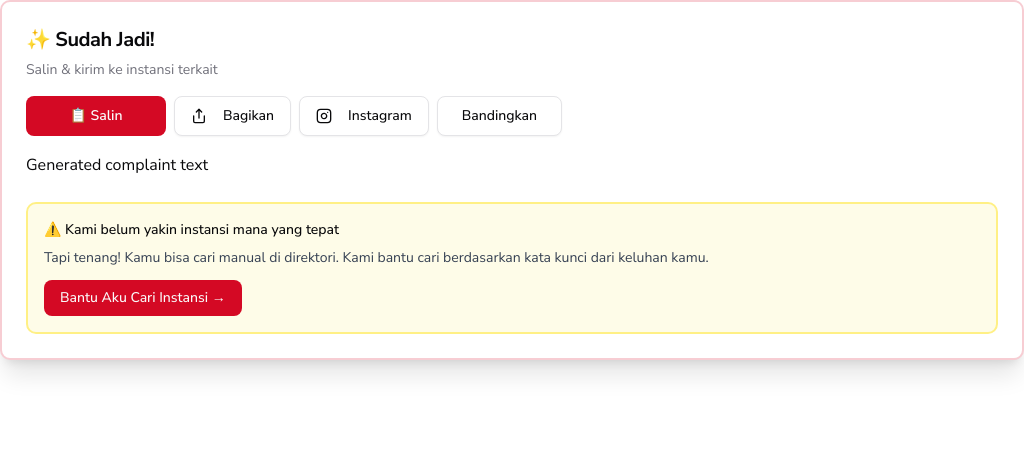
Test case: User Control & Freedom › Undo/Redo Support › allows toggling comparison view
The image size is (1024, 459).
Note: Show comparison
Click the button "Bandingkan" at [499, 116], box [437, 96, 562, 136]
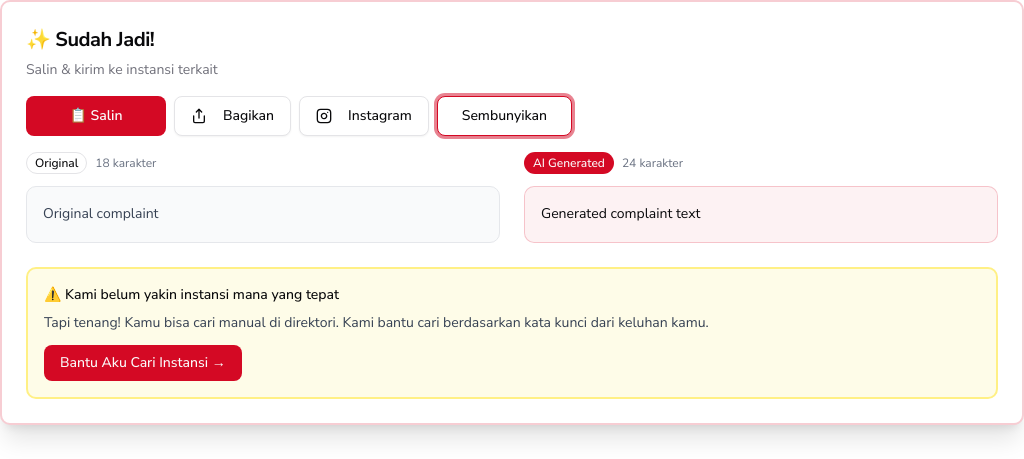
Expected: the text "Original complaint" is shown, [43, 204, 158, 223]
Note: Hide comparison (undo)
Click the button "Sembunyikan" at [504, 116], box [437, 96, 572, 136]
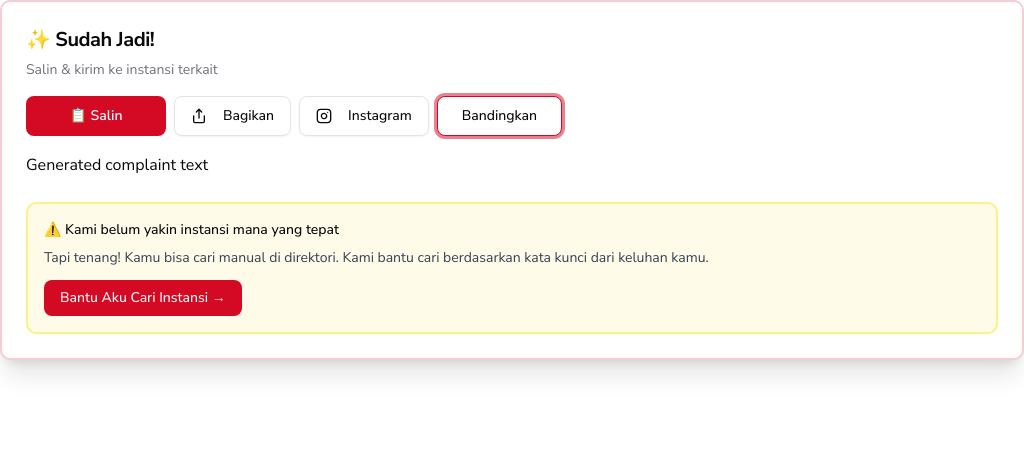
Expected: the text "Original complaint" is gone
